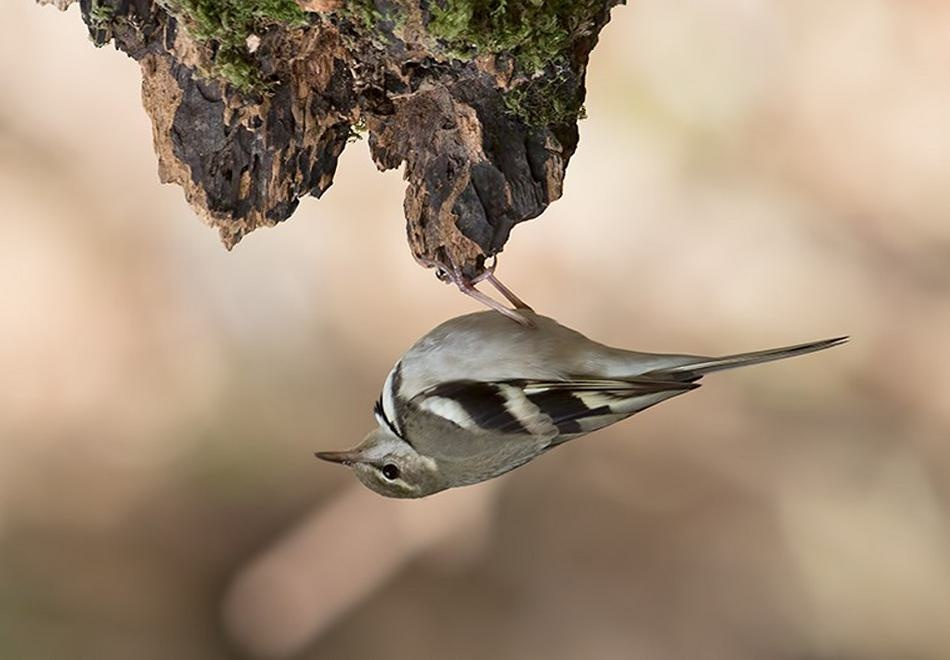wagtail: (307, 254, 830, 509)
